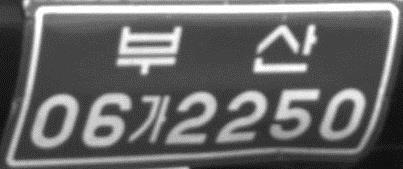0: (28, 88, 81, 152), (319, 85, 369, 146)
2: (163, 90, 218, 147), (215, 88, 269, 146)
5: (267, 87, 321, 142)
6: (80, 88, 132, 150)
가: (129, 92, 171, 146)
부산_D: (114, 21, 319, 77)
